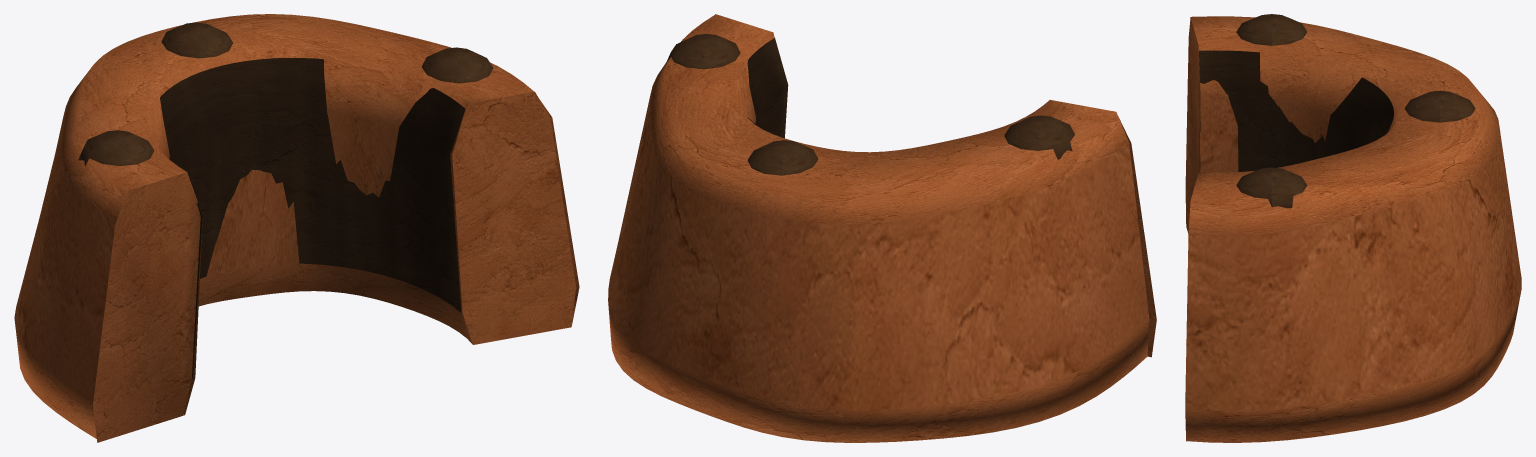
The model's file is prop_chula.glb.
3 views of the same model, side by side, from view 1: azimuth 30°, elevation 25°; view 2: azimuth 150°, elevation 25°; view 3: azimuth 270°, elevation 25° (orthographic). The views are drawn at different scales.
Visible parts, largest first — view 1: prop_chula; view 2: prop_chula; view 3: prop_chula.
Boxes of the visible parts, box(x1,y1,x2,y2) form: prop_chula: box(14, 14, 579, 442); prop_chula: box(608, 14, 1156, 442); prop_chula: box(1185, 14, 1521, 442).
Size of the model in its own units: 0.5 by 0.25 by 0.32.
2 materials, 2 textured.
